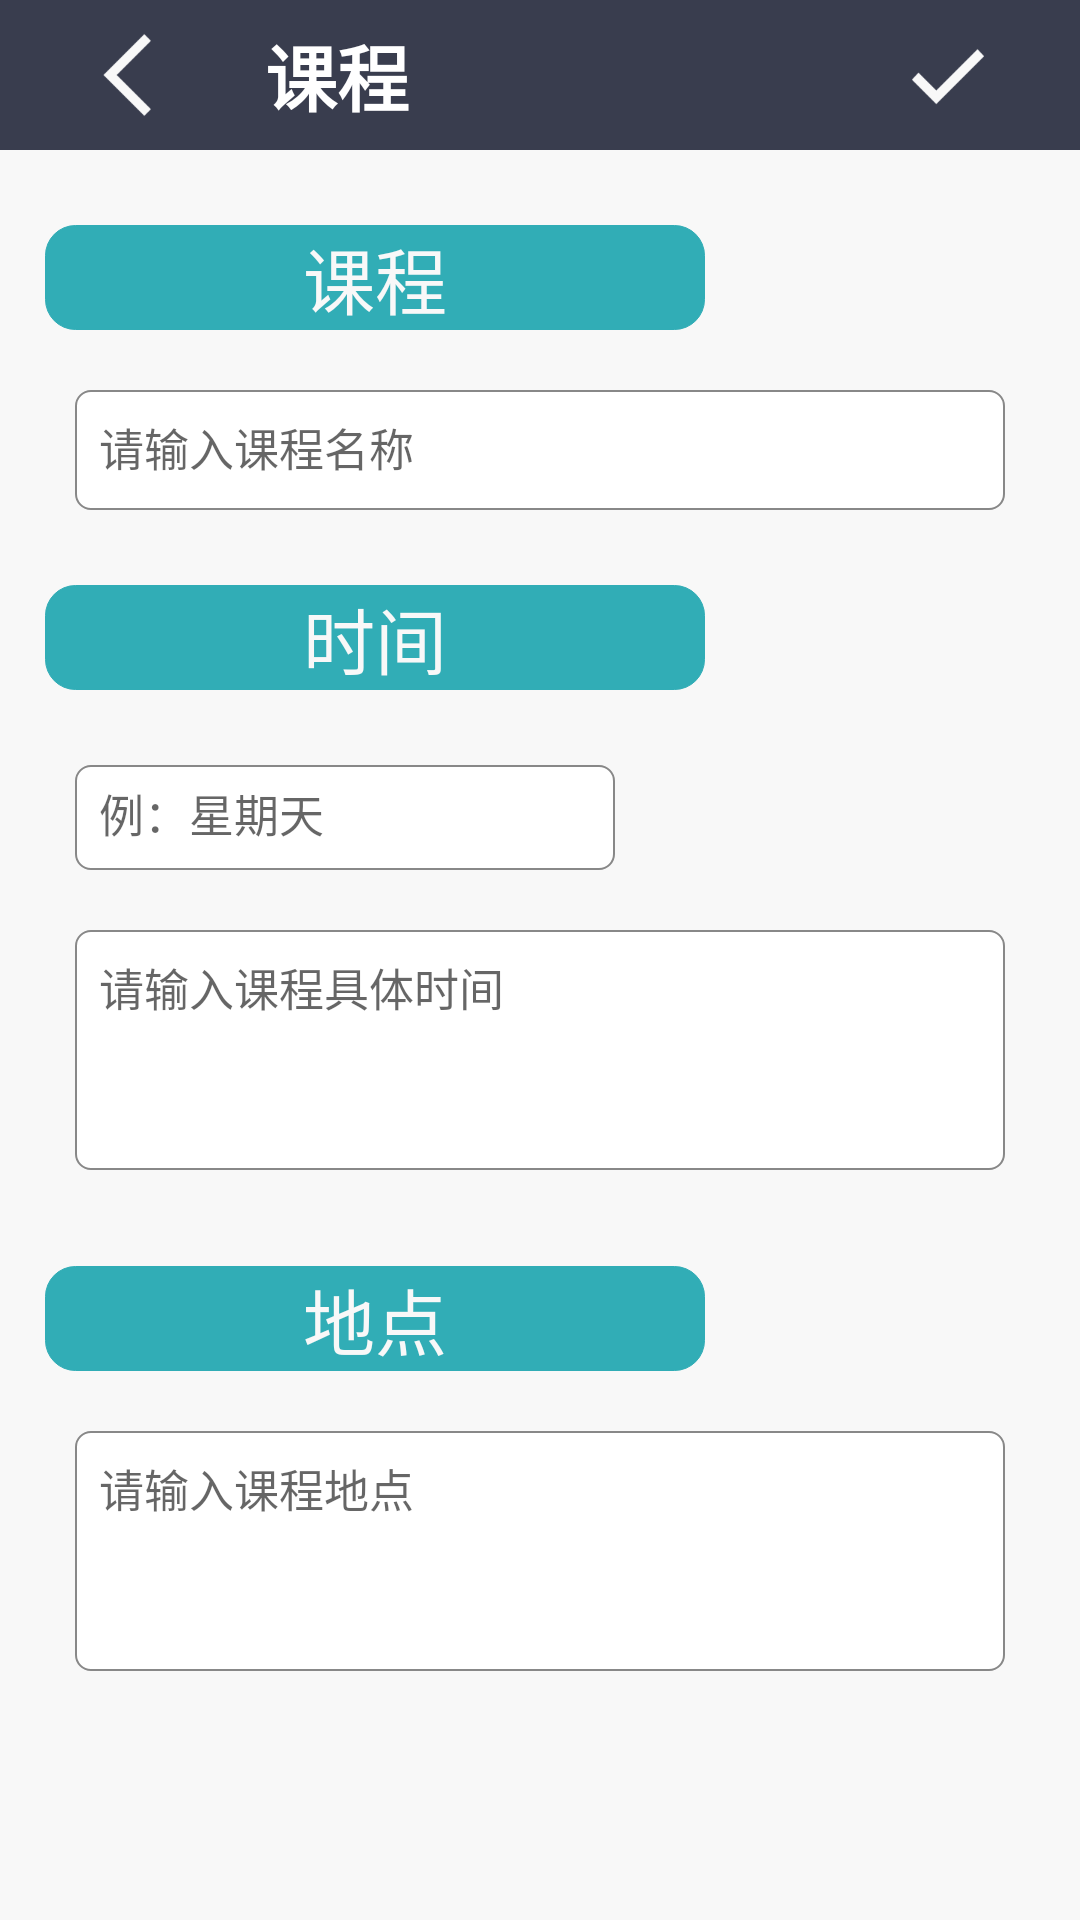

Screen size 1080w x 1920h. Icon name, then its box in pixels as Rect(x1, y1, x2, y2):
back: Rect(103, 34, 151, 116)
